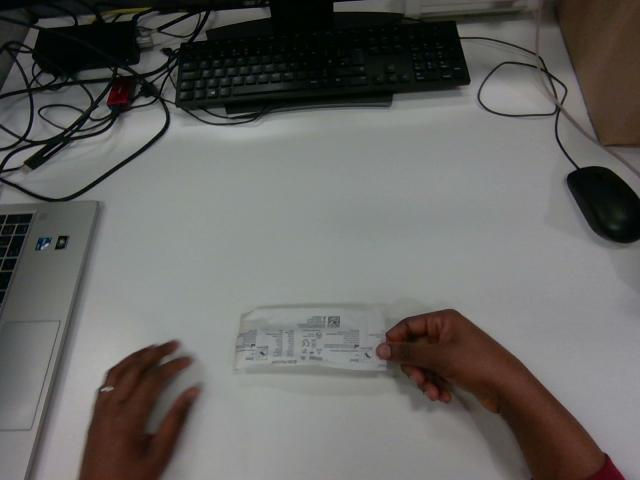syringe: (235, 306, 385, 370)
